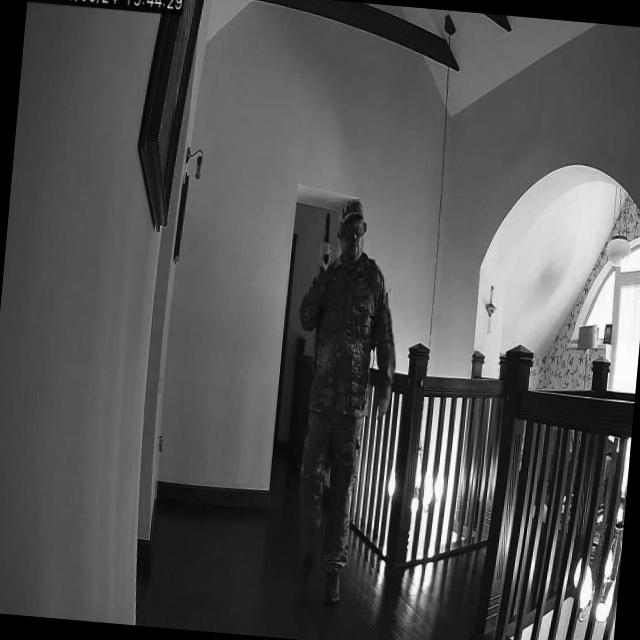gun: (316, 208, 336, 268)
person with a gun: (273, 193, 407, 610)
